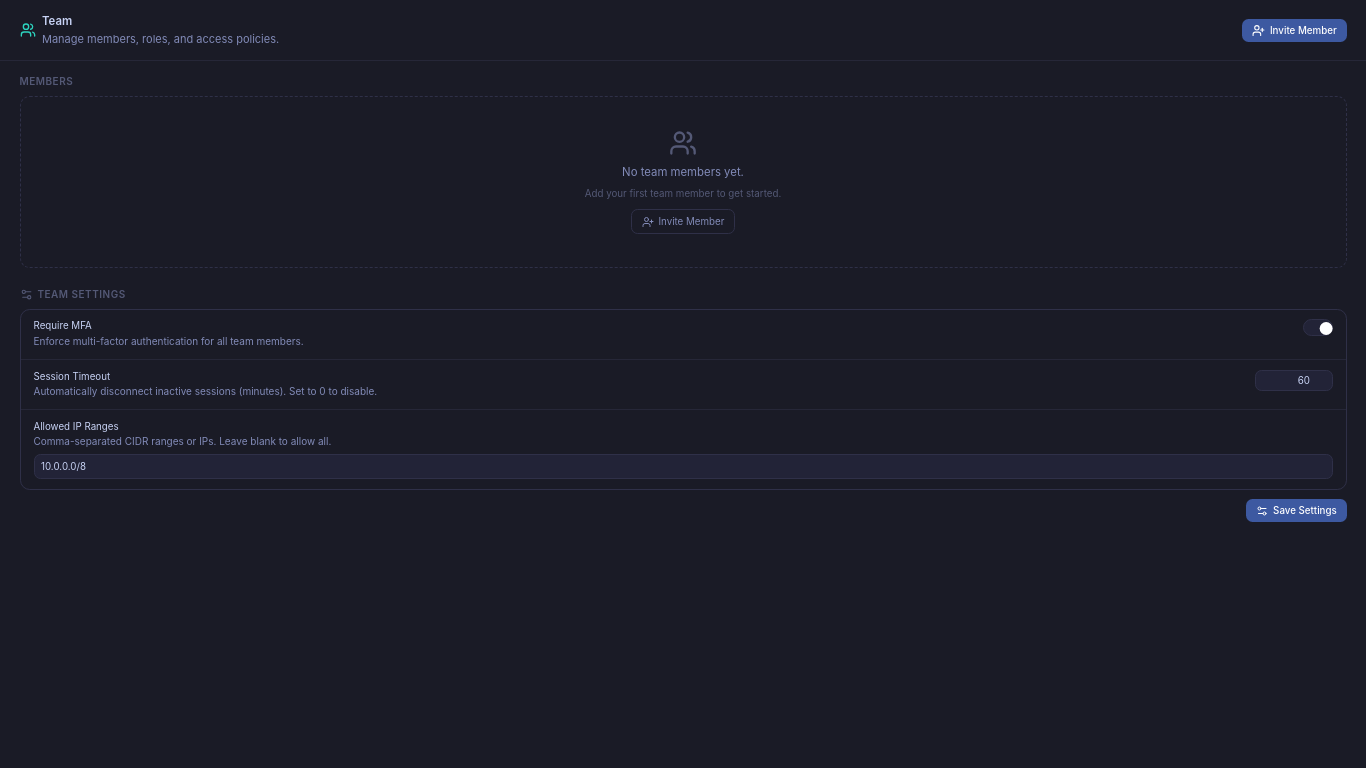
TeamPanel › closes the invite modal via Cancel
Expected: the text "No team members yet." is shown, top-left (622, 164), bottom-right (744, 180)
Click the 1st button "Invite Member".
click(1294, 30)  # box top-left (1242, 19), bottom-right (1346, 42)
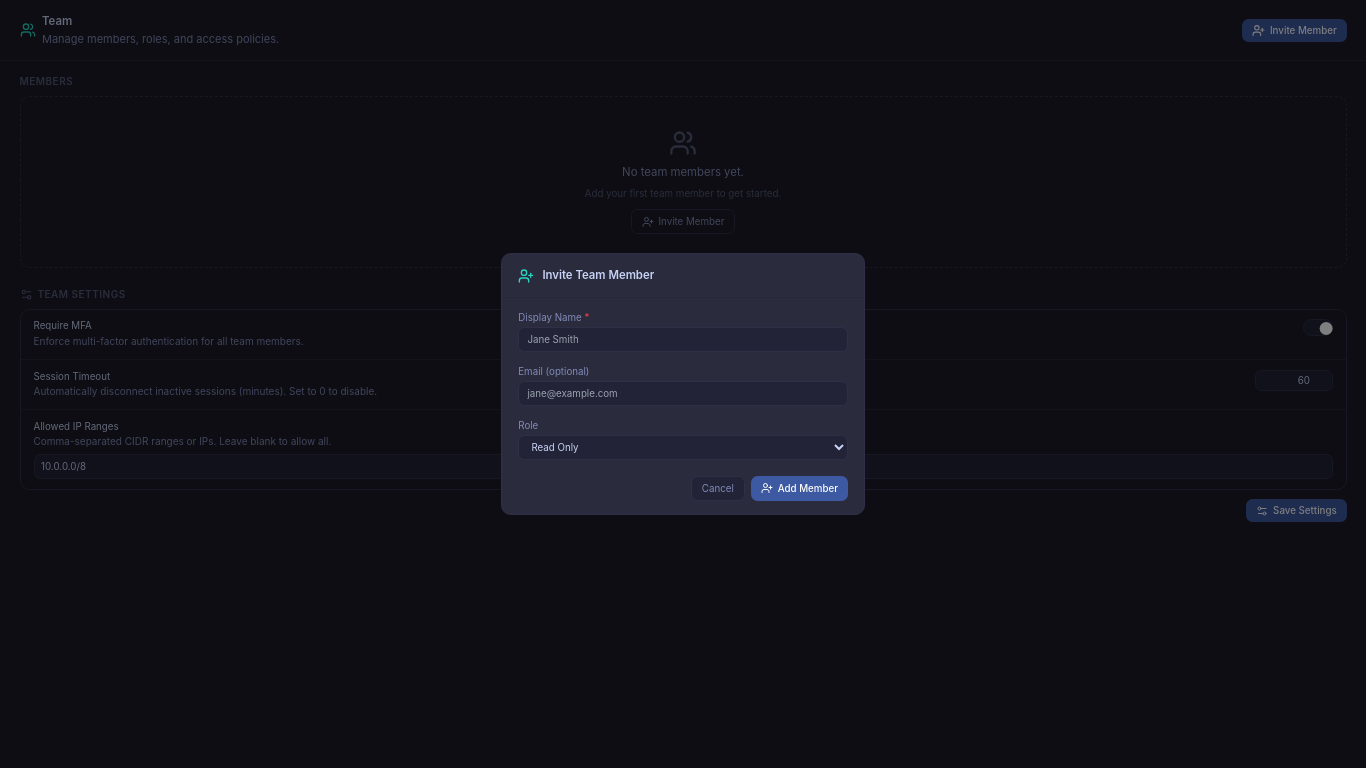
Click the button "Cancel".
click(718, 488)  # box top-left (691, 476), bottom-right (745, 501)
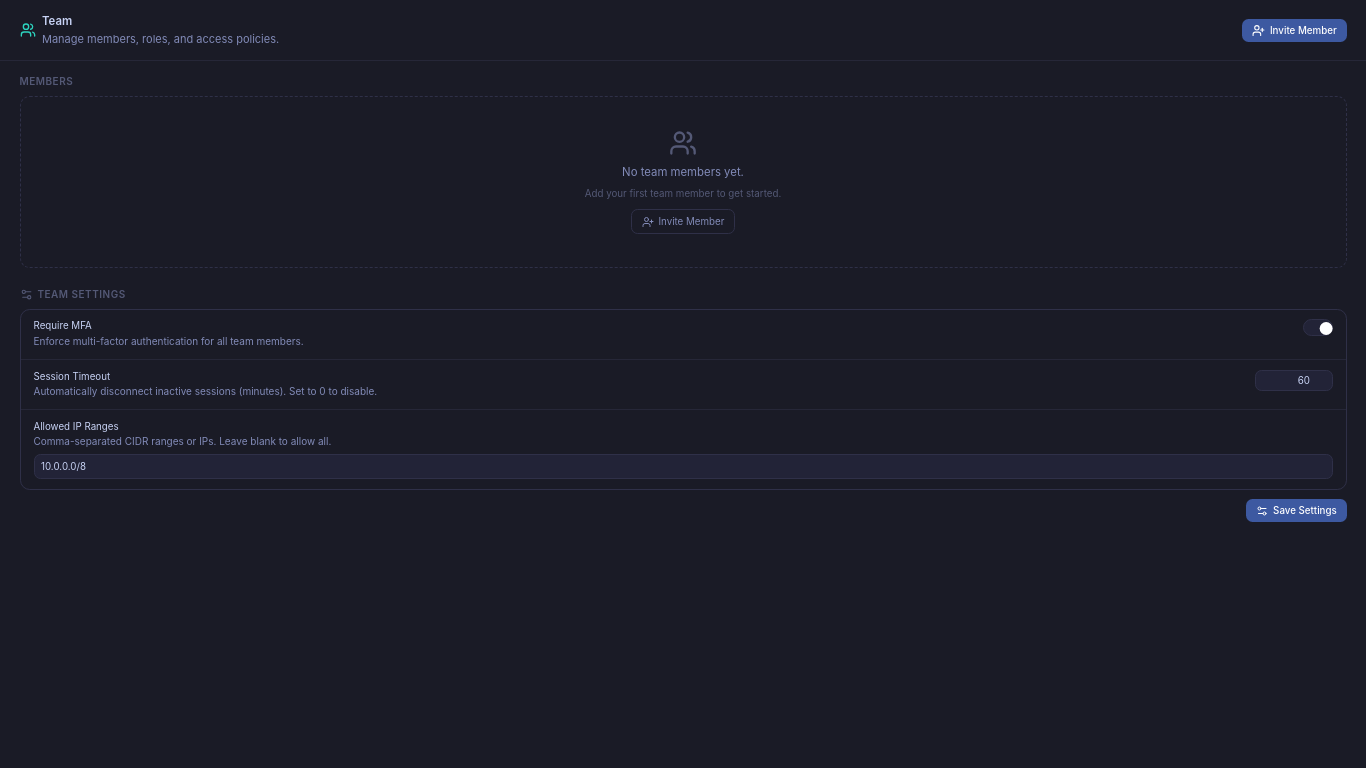
Expected: the dialog is gone
